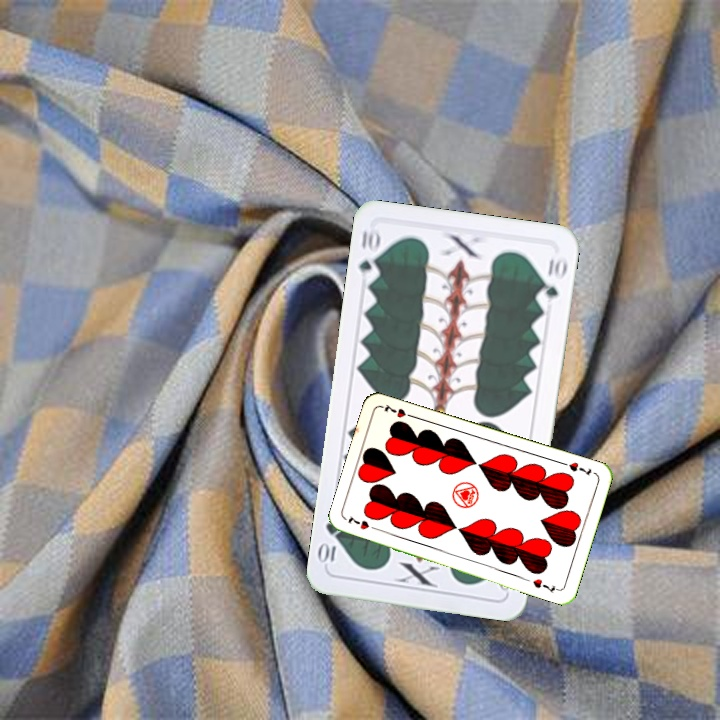G10: (355, 224, 384, 284)
H7: (557, 458, 594, 479), (344, 514, 382, 534)
